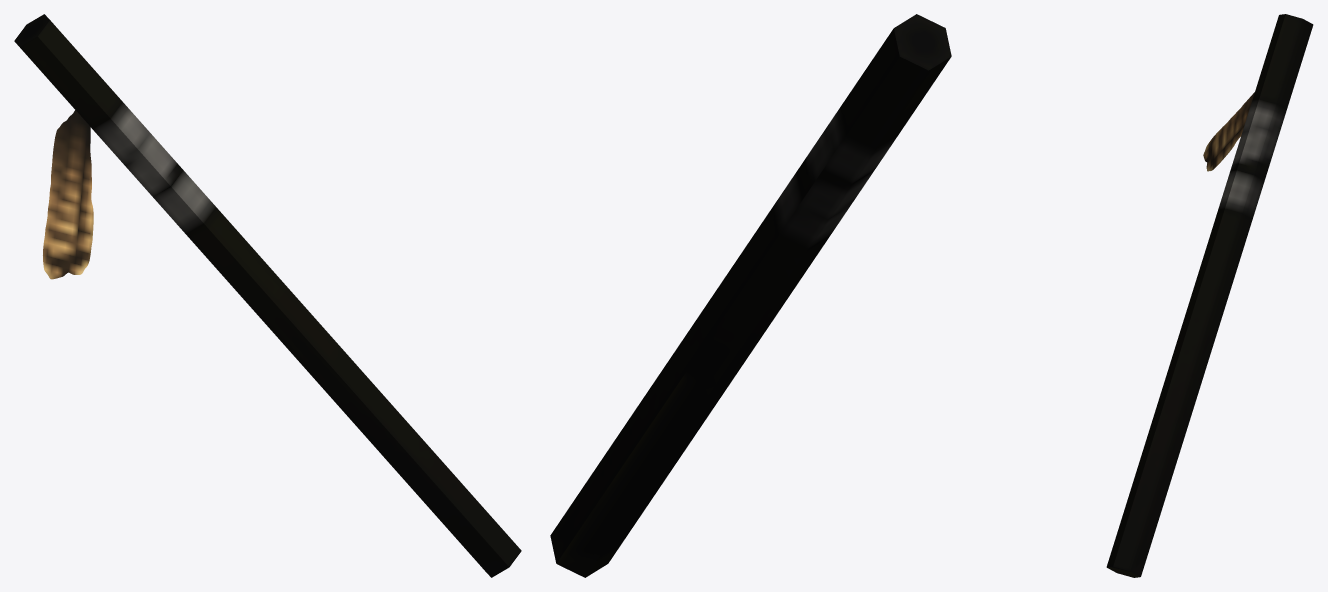
Rendered from blow pipe 3.fbx.
The picture shows the model from 3 angles, left to right: view 1: azimuth 30°, elevation 25°; view 2: azimuth 150°, elevation 25°; view 3: azimuth 270°, elevation 25°; orthographic projection. The views are drawn at different scales.
Visible parts, largest first — view 1: Blowpipe3; view 2: Blowpipe3; view 3: Blowpipe3.
Part boxes in pixels (left/top/right/bottom): Blowpipe3: left=14, top=14, right=521, bottom=577; Blowpipe3: left=550, top=14, right=951, bottom=577; Blowpipe3: left=1106, top=14, right=1313, bottom=577.
Size of the model in its own units: 0.4096 by 0.5134 by 0.2209.
